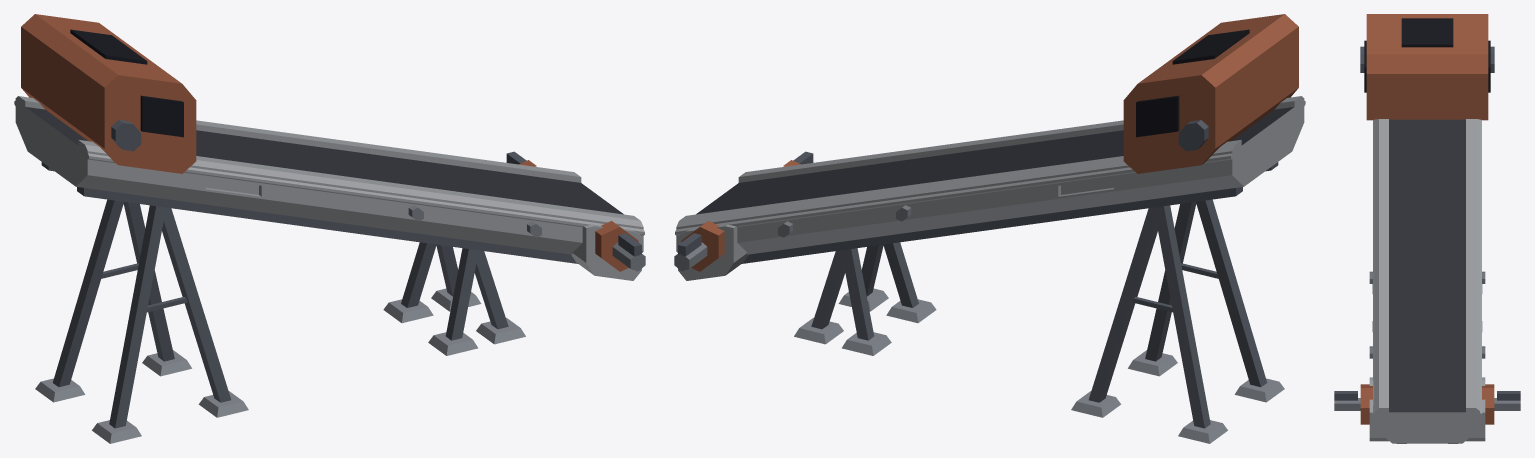
File: regolith-conveyor-b8a9fa.glb
The picture shows the model from 3 angles, left to right: view 1: azimuth 30°, elevation 25°; view 2: azimuth 150°, elevation 25°; view 3: azimuth 270°, elevation 25°; orthographic projection. The views are drawn at different scales.
Visible parts, largest first — view 1: regolith-conveyor-body, tail-roller-shaft; view 2: regolith-conveyor-body, tail-roller-shaft; view 3: regolith-conveyor-body, tail-roller-shaft.
Boxes of the visible parts, left/top/right/bottom form: regolith-conveyor-body: left=14, top=14, right=644, bottom=443; tail-roller-shaft: left=506, top=151, right=645, bottom=271; regolith-conveyor-body: left=675, top=14, right=1305, bottom=443; tail-roller-shaft: left=674, top=151, right=813, bottom=271; regolith-conveyor-body: left=1360, top=14, right=1494, bottom=443; tail-roller-shaft: left=1334, top=391, right=1520, bottom=410.
Size of the model in its own units: 4 by 2.55 by 1.59.
